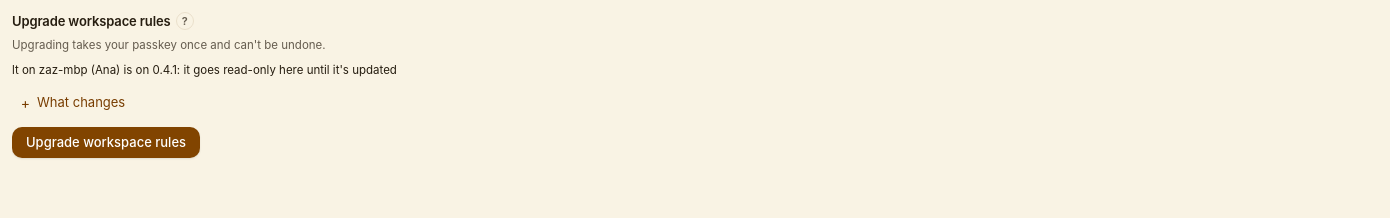
Test: WorkspaceRulesSection › shows an Owner the readiness list, names the old device, and upgrades with one confirm
The image size is (1390, 218).
Later steps or results of the test are not shown.
expect the list with test id "rules4-readiness" shows "lt on zaz-mbp (Ana) is on 0.4.1": met, box left=12, top=63, right=397, bottom=77
Click the button "+ What changes".
click(81, 102)  # box left=12, top=88, right=1378, bottom=118
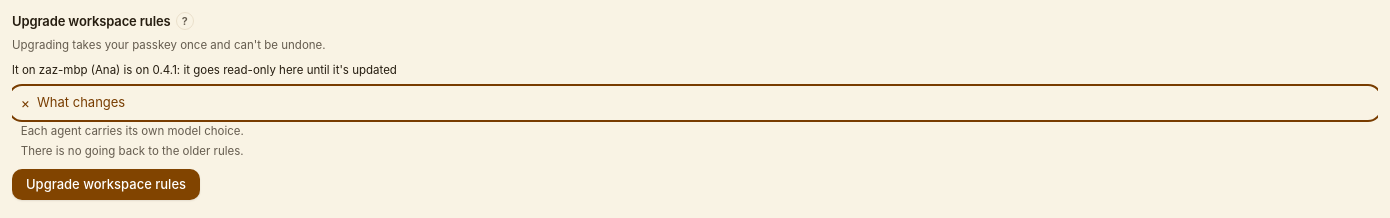
expect the list with test id "rules4-changes" shows "no going back": met, box left=21, top=144, right=244, bottom=158
